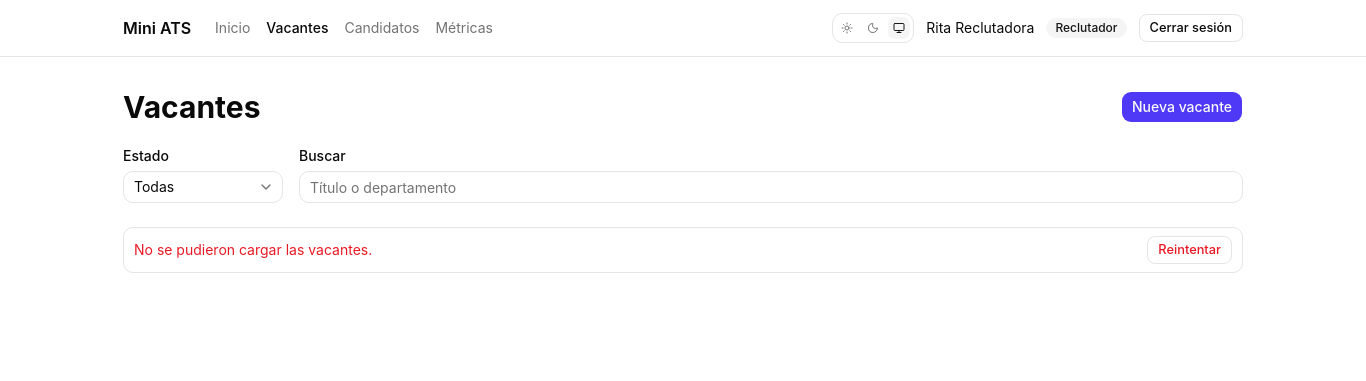
Scenario: JobsPage › shows an error with retry
The image size is (1366, 381).
Expected: the text "No se pudieron cargar las vacantes." is shown, [134,240,372,260]
Click the button "Reintentar" at (1190, 250), box [1147,236,1232,264]
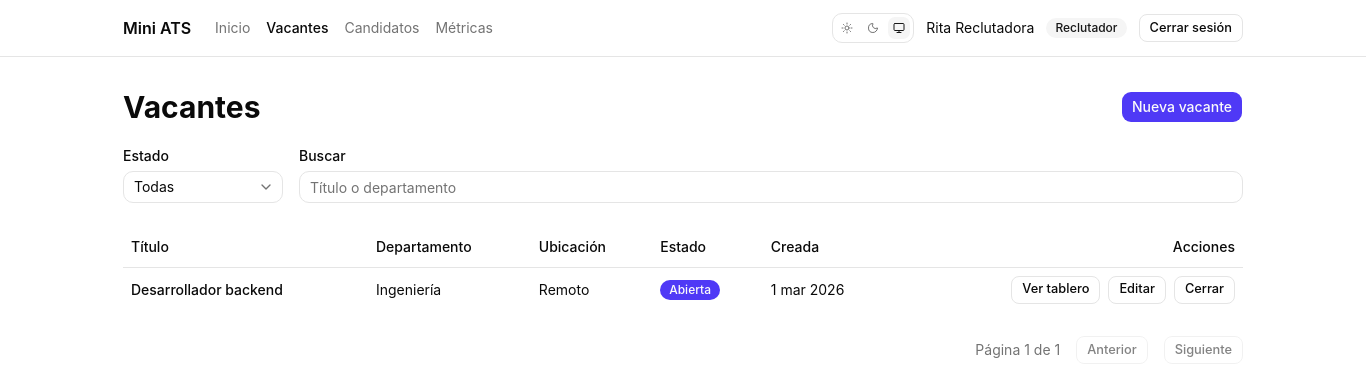
Now the text "Desarrollador backend" is shown, box [123,267,368,312]
